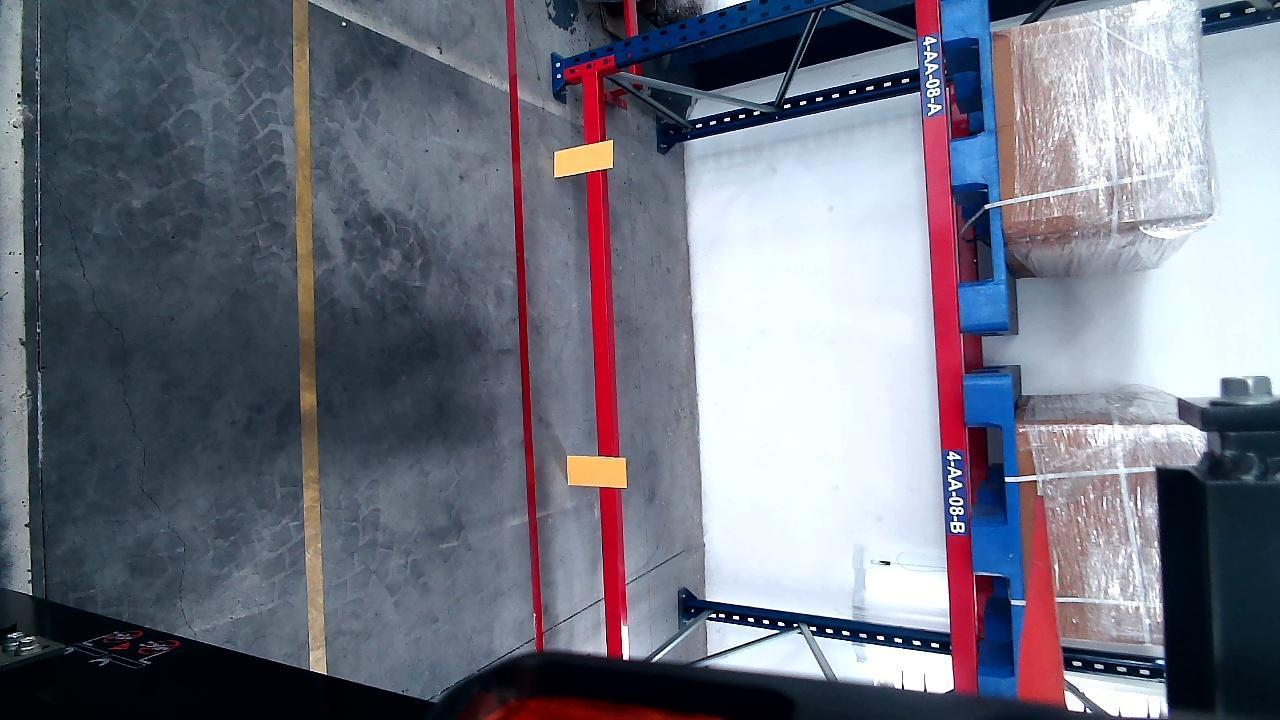h_rack: (581, 72, 627, 669)
orange_strip: (553, 140, 613, 175), (567, 454, 626, 486)
red_line: (502, 0, 549, 643)
small_pallet: (939, 1, 1021, 331), (968, 378, 1032, 681)
yellow_line: (291, 0, 326, 669)
